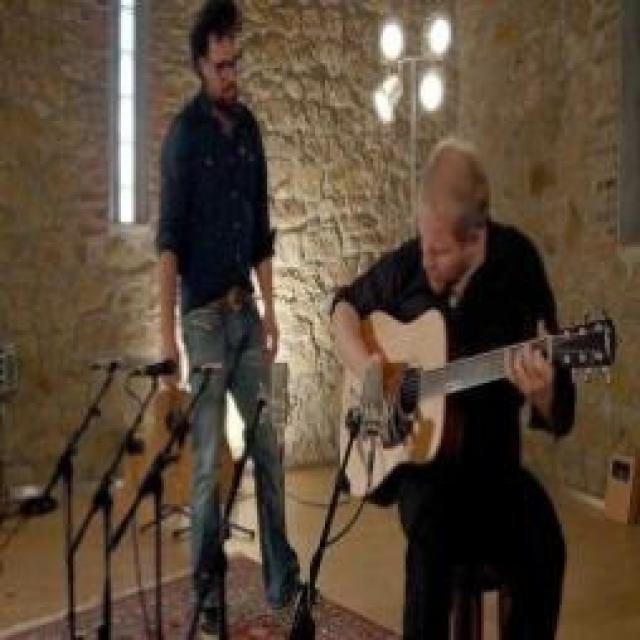acousticguitar: (343, 310, 519, 501), (524, 317, 612, 365)
